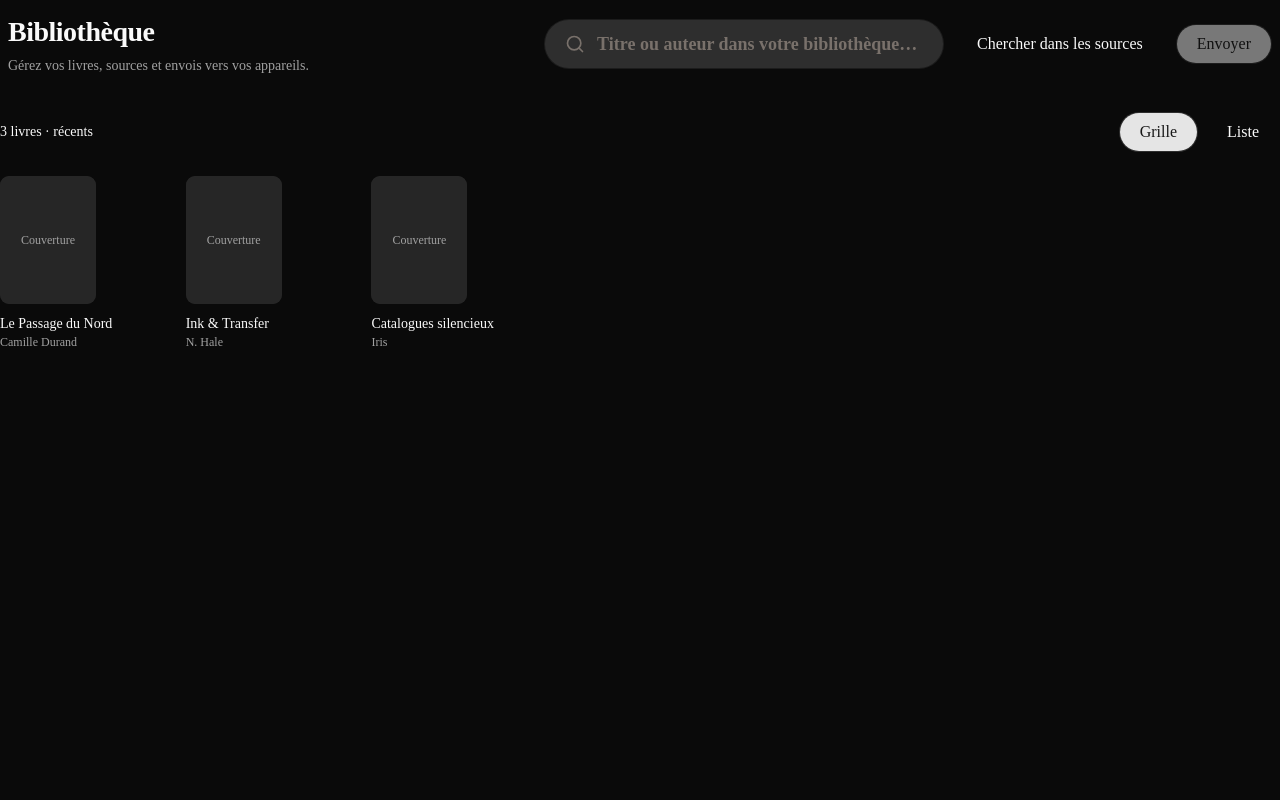
it: UI harness — Pen library composition › opens deliver from a list-row Envoyer (existing per-book path)
The width and height of the screenshot is (1280, 800).
Click the button "Liste".
click(1243, 132)  # box [1206,112,1279,152]
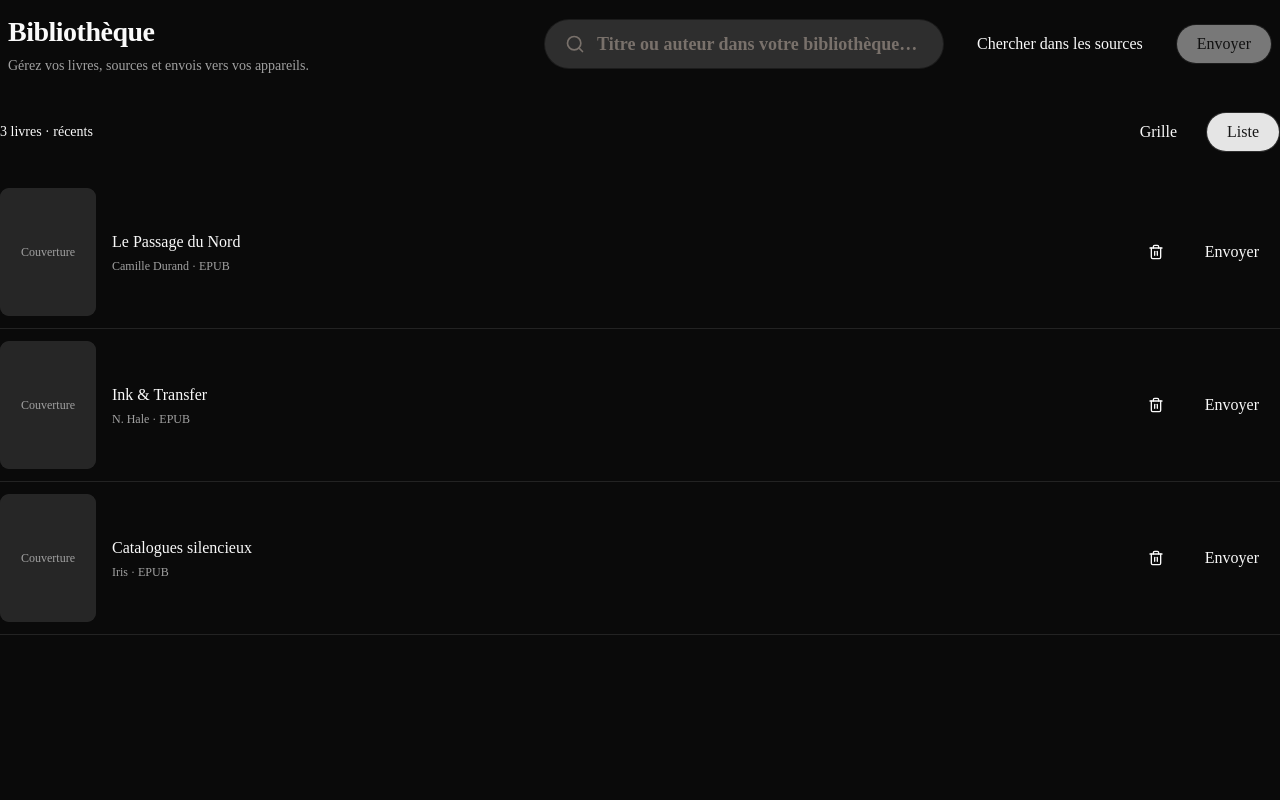
Click the button with aria-label "Envoyer «".
click(1232, 252)  # box [1184,232,1279,272]
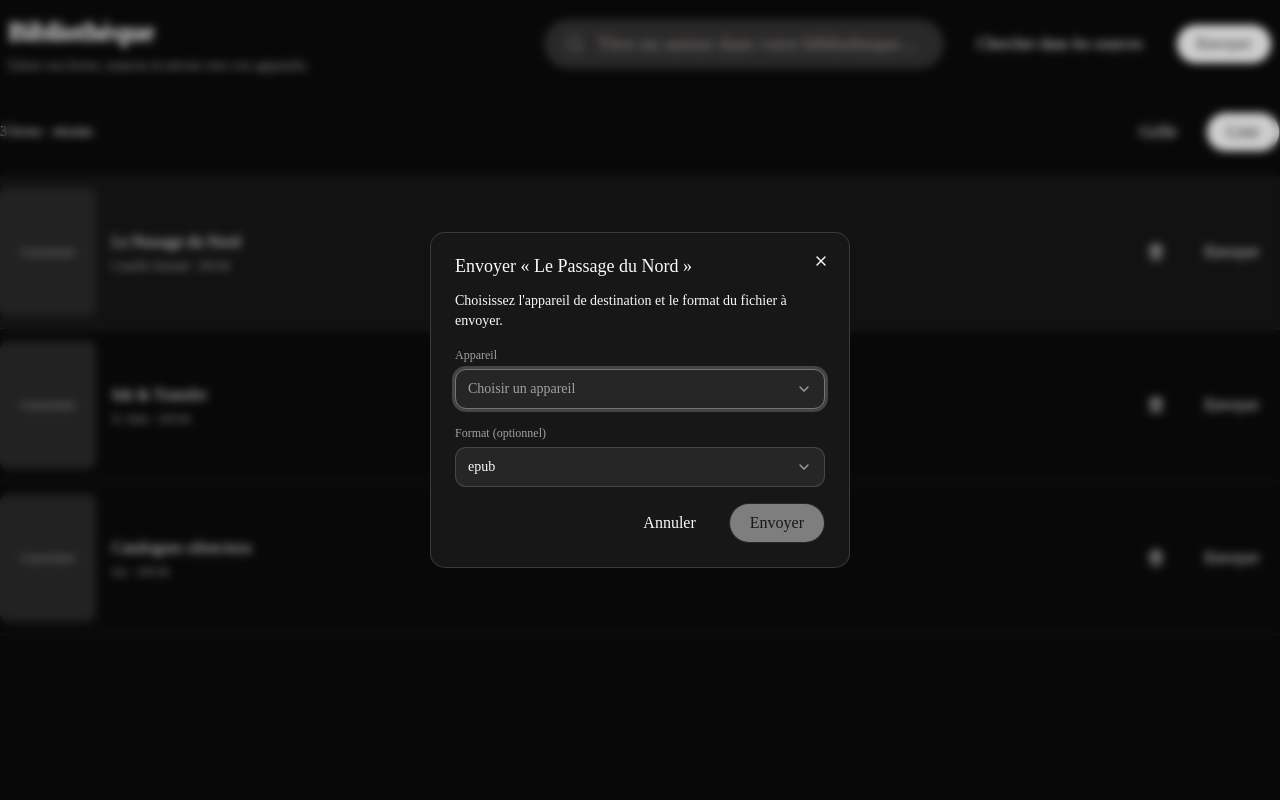
Check: the dialog is shown, box [430,232,850,568]
